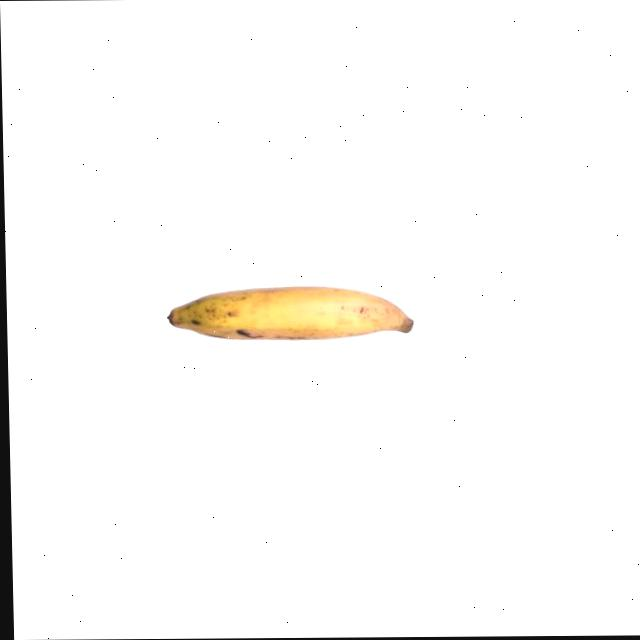banana: (161, 281, 418, 344)
